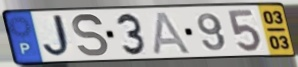3: (115, 11, 146, 57)
5: (225, 8, 265, 53)
9: (195, 12, 227, 52)
A: (152, 10, 193, 55)
J: (42, 13, 77, 60)
S: (71, 12, 111, 59)
